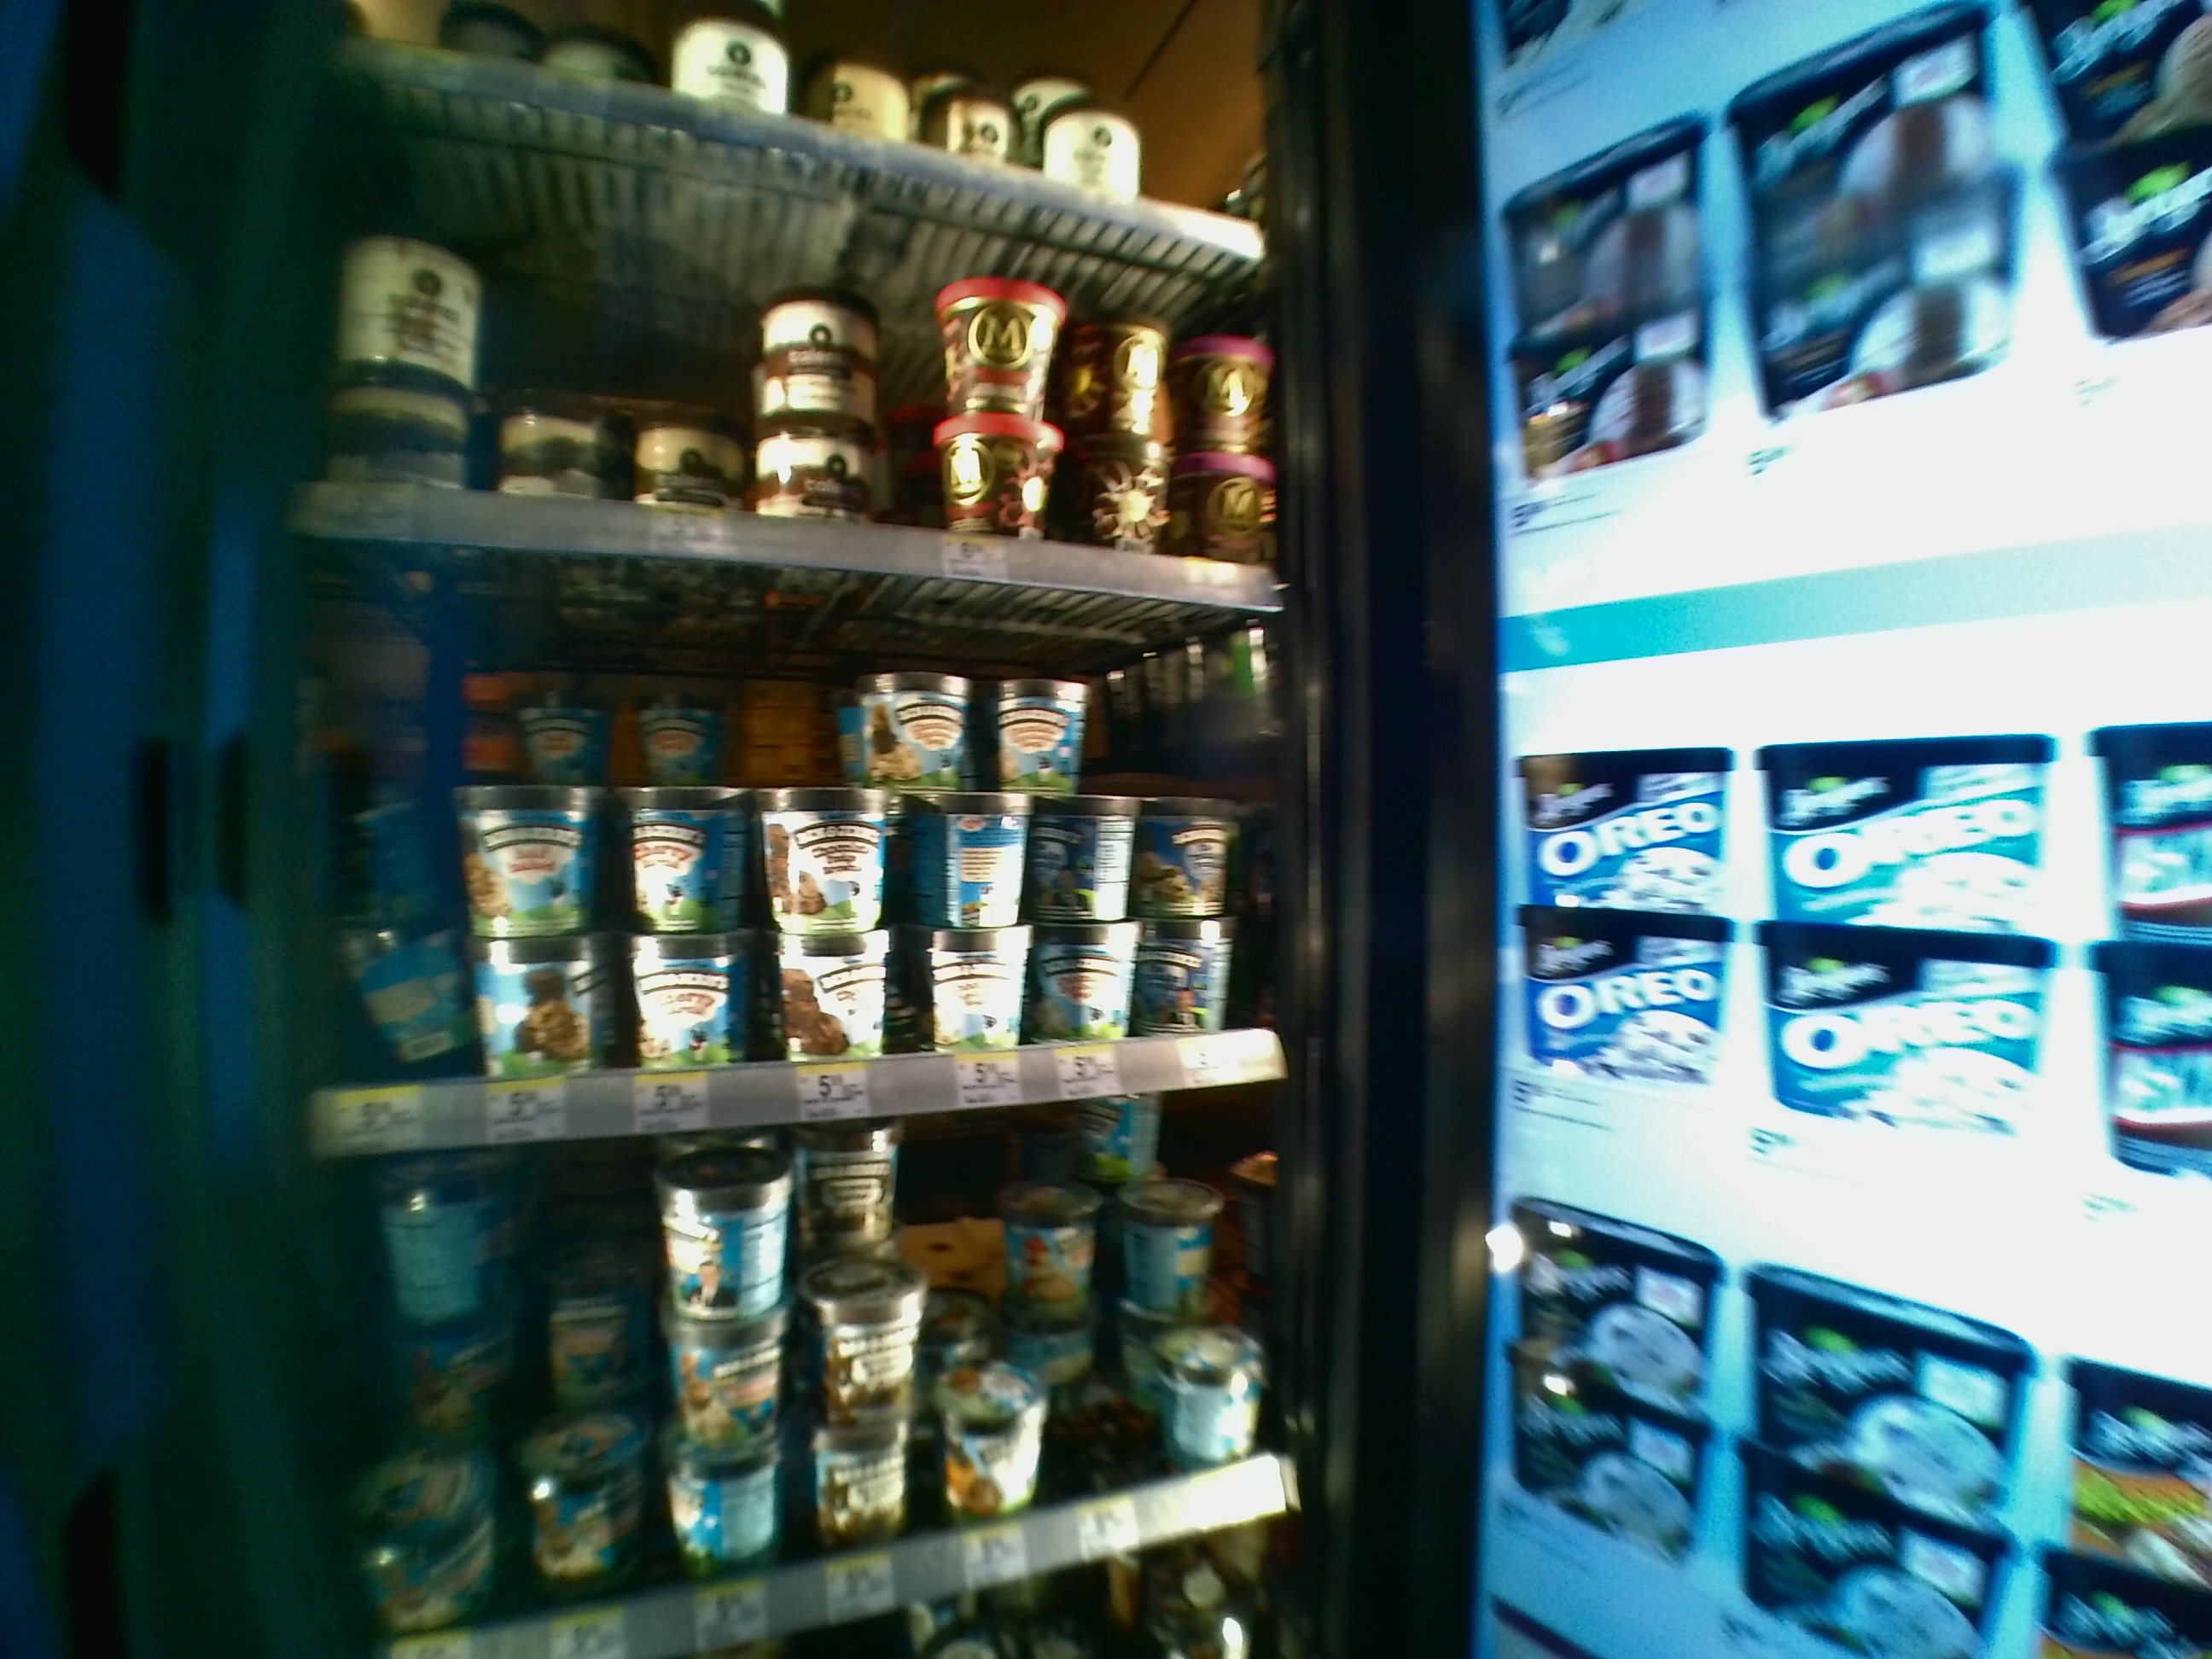shelf: (320, 547, 1287, 1162)
